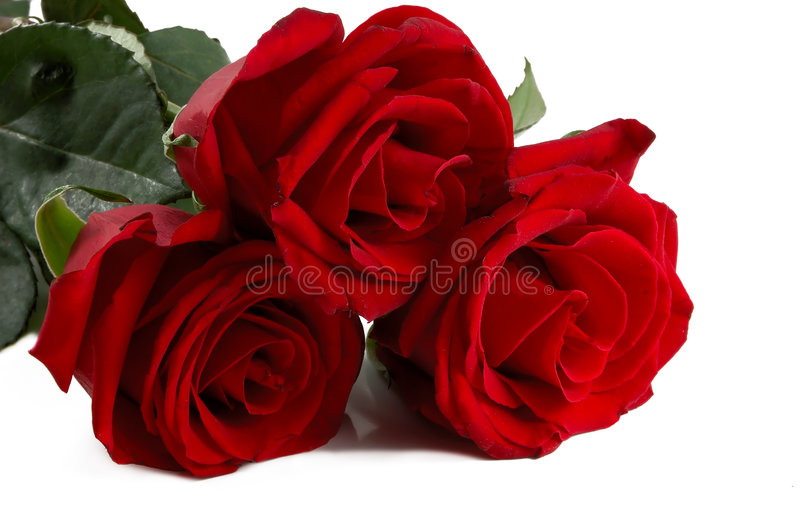RedRose: (171, 1, 534, 334), (411, 124, 707, 462), (38, 197, 370, 469)
